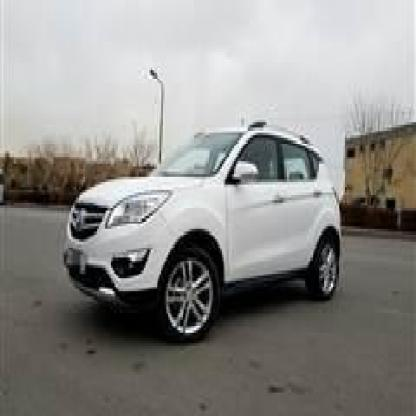Car: (54, 120, 345, 330)
